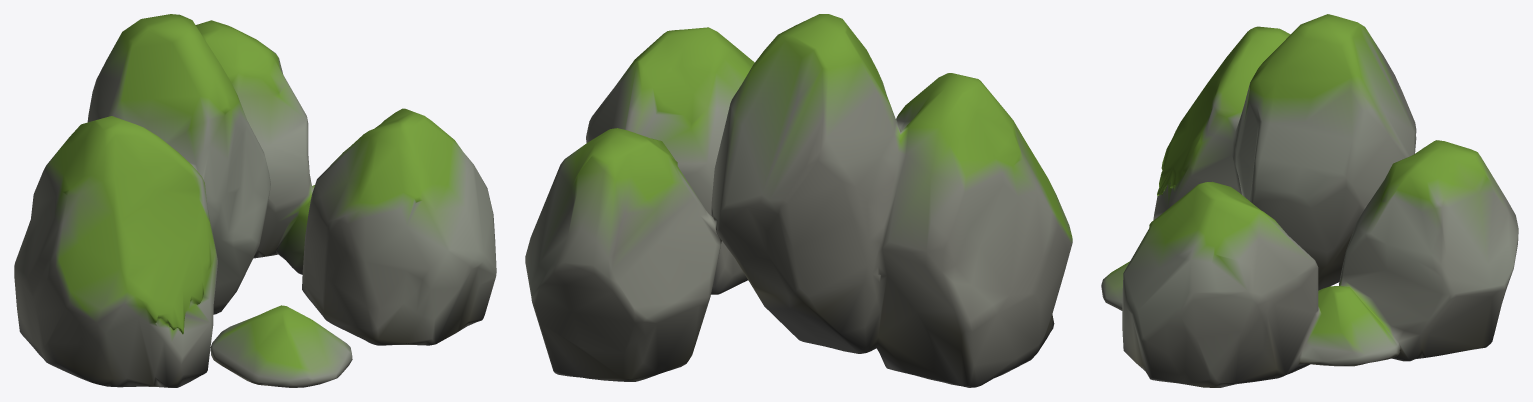
Rendered from gen3d-mossy-rock-cluster-lod0.glb.
3 renders of one model, left to right at view 1: azimuth 30°, elevation 25°; view 2: azimuth 150°, elevation 25°; view 3: azimuth 270°, elevation 25°, orthographic. The views are drawn at different scales.
Visible parts, largest first — view 1: part_0; view 2: part_0; view 3: part_0.
Boxes of the visible parts, left/top/right/bottom form: part_0: left=14, top=14, right=496, bottom=387; part_0: left=525, top=14, right=1072, bottom=387; part_0: left=1101, top=14, right=1518, bottom=387.
Size of the model in its own units: 1.5 by 0.9947 by 1.44.
